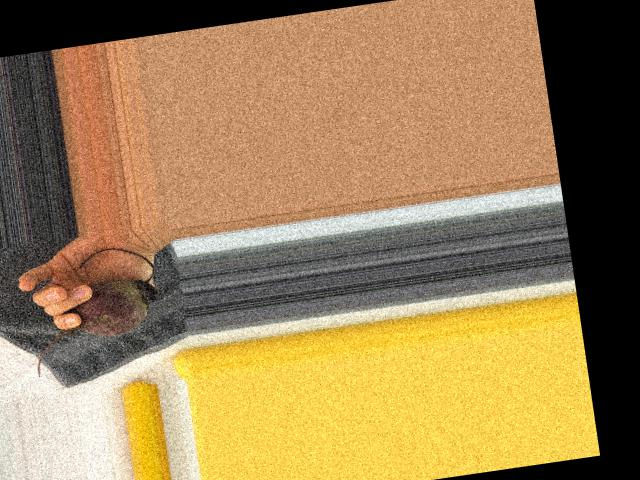beet: (21, 242, 165, 376)
